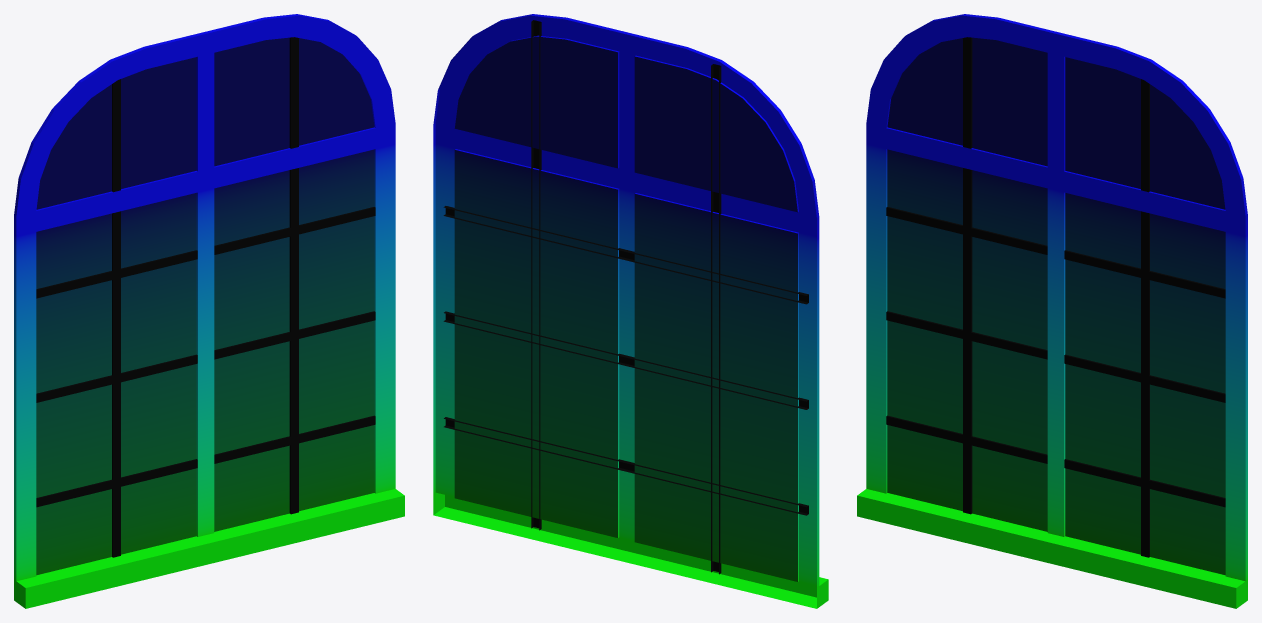
Rendered from windows_full.fbx.
3 renders of one model, left to right at view 1: azimuth 30°, elevation 25°; view 2: azimuth 150°, elevation 25°; view 3: azimuth 330°, elevation 25°, orthographic.
Visible parts, largest first — view 1: windows full; view 2: windows full; view 3: windows full.
Part boxes in pixels (left/top/right/bottom): windows full: left=14, top=14, right=404, bottom=608; windows full: left=433, top=14, right=828, bottom=608; windows full: left=857, top=14, right=1247, bottom=608.
Bounding box in the file's own units: 190 × 250 × 10.1.
